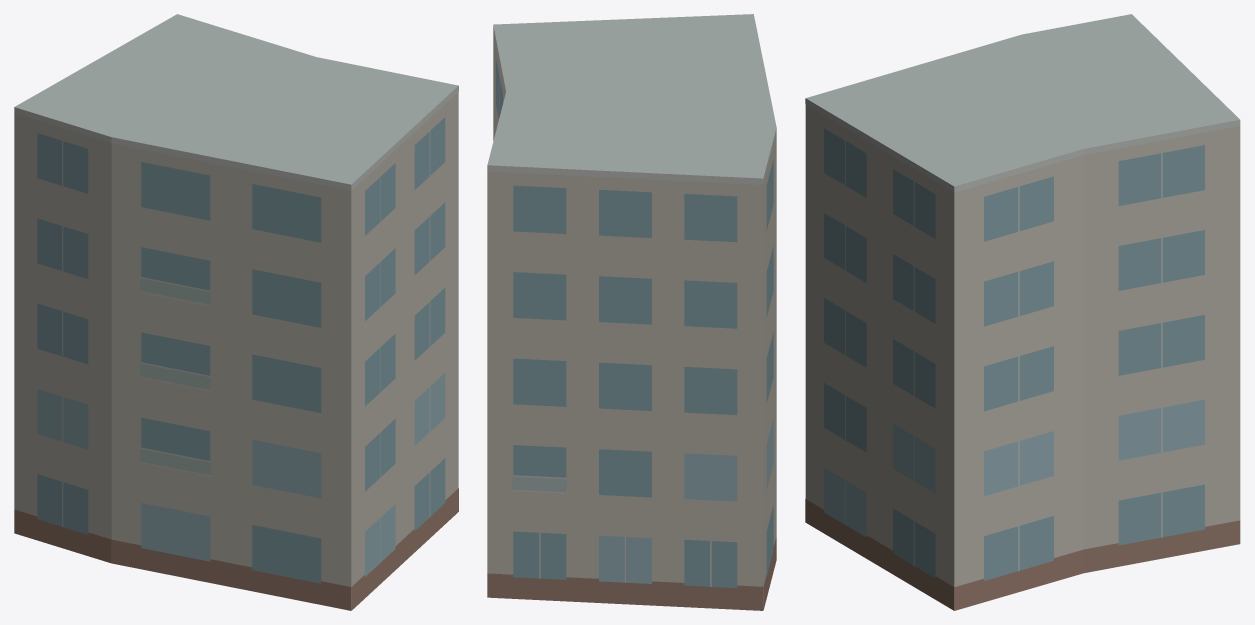
File: survey-upis-32528465.glb
3 views of the same model, side by side, from view 1: azimuth 30°, elevation 25°; view 2: azimuth 150°, elevation 25°; view 3: azimuth 270°, elevation 25° (orthographic).
Parts seen in each view (by area): view 1: survey-upis-32528465.tmp; view 2: survey-upis-32528465.tmp; view 3: survey-upis-32528465.tmp.
Boxes of the visible parts, bbox=[...] form: survey-upis-32528465.tmp: bbox=[14, 14, 458, 610]; survey-upis-32528465.tmp: bbox=[487, 14, 776, 610]; survey-upis-32528465.tmp: bbox=[805, 14, 1240, 610].
Size of the model in its own units: 14.75 by 16.9 by 15.71.
